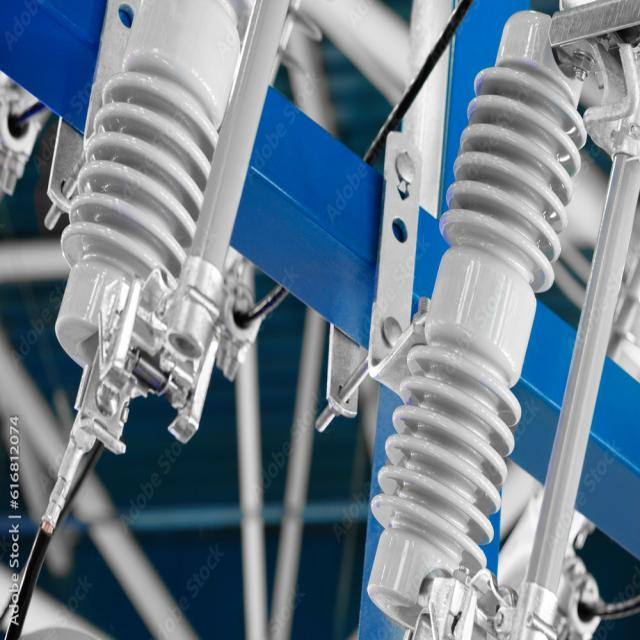insulator: (368, 29, 554, 598), (44, 18, 243, 396)
